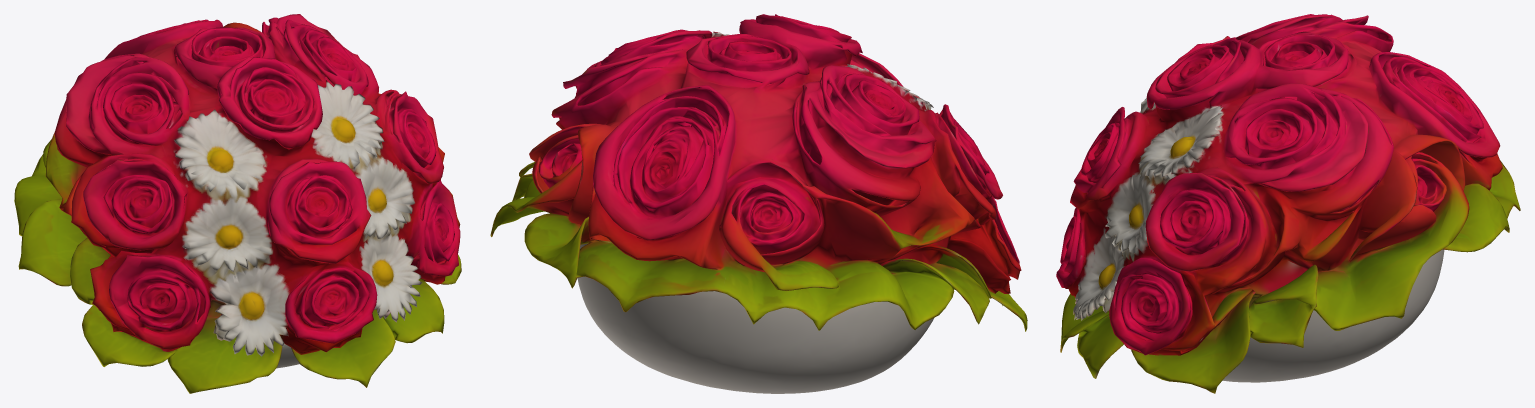
File: hunyuan-roses2-40k.glb
3 renders of one model, left to right at view 1: azimuth 30°, elevation 25°; view 2: azimuth 150°, elevation 25°; view 3: azimuth 270°, elevation 25°, orthographic. The views are drawn at different scales.
Parts seen in each view (by area): view 1: material; view 2: material; view 3: material.
Boxes of the visible parts, x1=… form: material: x1=14, y1=14, x2=461, y2=393; material: x1=490, y1=14, x2=1027, y2=393; material: x1=1056, y1=14, x2=1520, y2=393.
Size of the model in its own units: 1.06 by 0.7106 by 0.9928.
1 material, 1 textured.
